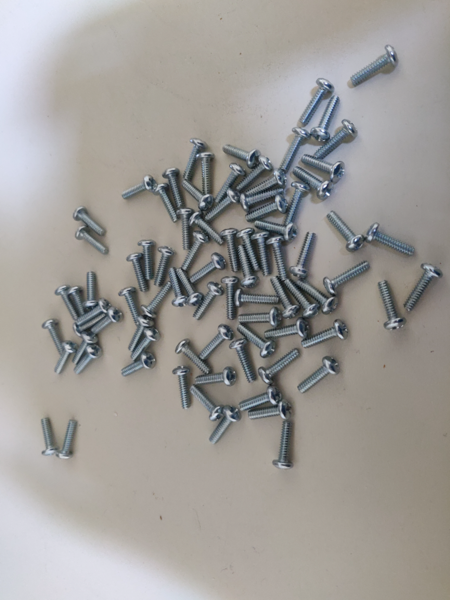shortscrew: (350, 45, 399, 86), (403, 264, 443, 312), (315, 119, 359, 159), (365, 223, 416, 257), (301, 77, 336, 125), (323, 261, 371, 296), (327, 211, 366, 253), (298, 357, 341, 394), (297, 278, 339, 315), (258, 349, 301, 385), (302, 319, 350, 349), (378, 281, 406, 331), (293, 167, 334, 201), (285, 279, 320, 318), (311, 96, 340, 143), (236, 324, 276, 358), (209, 405, 242, 446), (237, 155, 273, 192), (199, 324, 234, 362), (289, 231, 317, 278), (176, 339, 212, 375), (270, 276, 300, 319), (284, 180, 312, 226), (302, 155, 347, 183), (190, 386, 225, 422), (245, 168, 287, 197), (238, 385, 283, 412), (245, 195, 290, 222), (240, 187, 286, 213), (283, 127, 310, 171), (204, 188, 240, 221), (189, 212, 225, 245), (193, 283, 224, 321), (230, 339, 256, 384), (182, 139, 209, 182), (142, 282, 174, 318), (216, 163, 244, 204), (151, 183, 179, 224), (182, 231, 210, 271), (236, 229, 262, 272), (128, 314, 156, 353), (176, 267, 204, 306), (131, 325, 161, 361), (266, 237, 290, 282), (190, 253, 226, 283), (273, 422, 295, 470), (237, 245, 261, 289), (254, 219, 299, 242), (76, 225, 109, 255), (264, 318, 311, 339), (126, 252, 150, 293), (222, 144, 261, 169), (249, 399, 293, 421), (238, 306, 282, 328), (73, 207, 106, 236), (120, 352, 156, 377), (251, 232, 271, 277), (73, 330, 99, 364), (155, 246, 176, 288), (195, 366, 237, 387), (56, 419, 78, 459), (220, 229, 240, 273), (234, 289, 279, 308), (74, 345, 103, 374), (163, 167, 183, 209), (196, 152, 215, 196), (91, 308, 123, 334), (122, 176, 158, 199), (173, 366, 191, 411), (221, 276, 239, 320), (55, 342, 78, 376), (138, 240, 157, 280), (168, 268, 187, 308), (56, 285, 77, 321), (43, 319, 63, 356), (41, 418, 58, 458), (176, 209, 192, 250), (83, 272, 98, 310), (68, 286, 84, 314)
